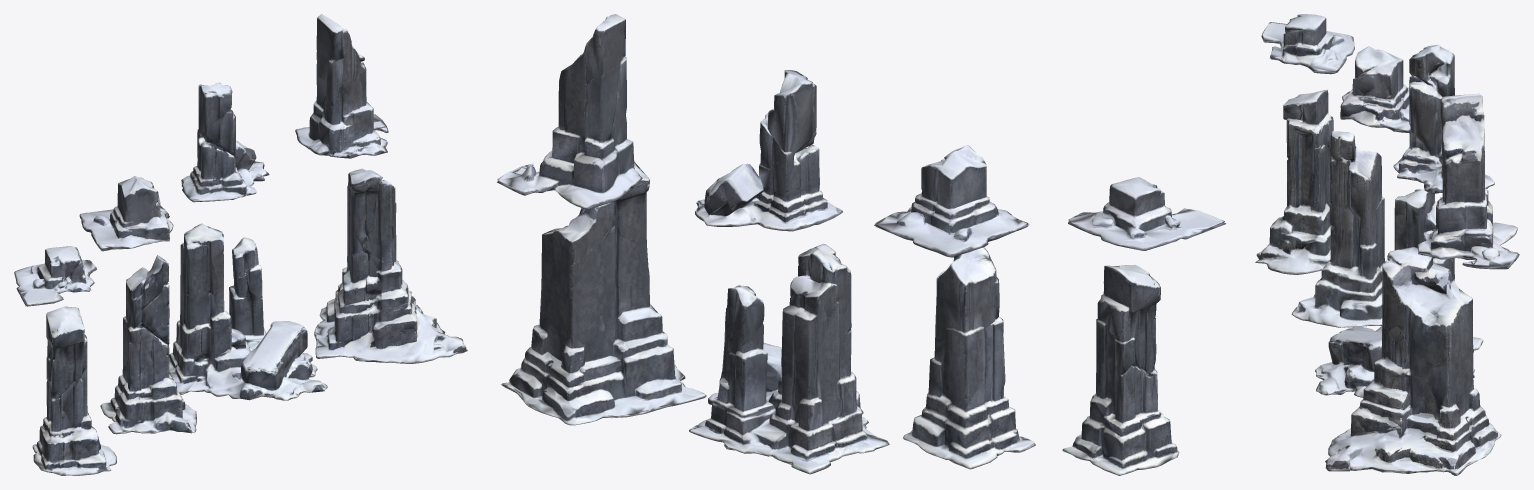
File: ruinas.glb
3 renders of one model, left to right at view 1: azimuth 30°, elevation 25°; view 2: azimuth 150°, elevation 25°; view 3: azimuth 270°, elevation 25°, orthographic. The views are drawn at different scales.
Bounding box in the file's own units: 0.9833 × 0.6057 × 0.4289.
Materials: 1 (1 with a texture image).
